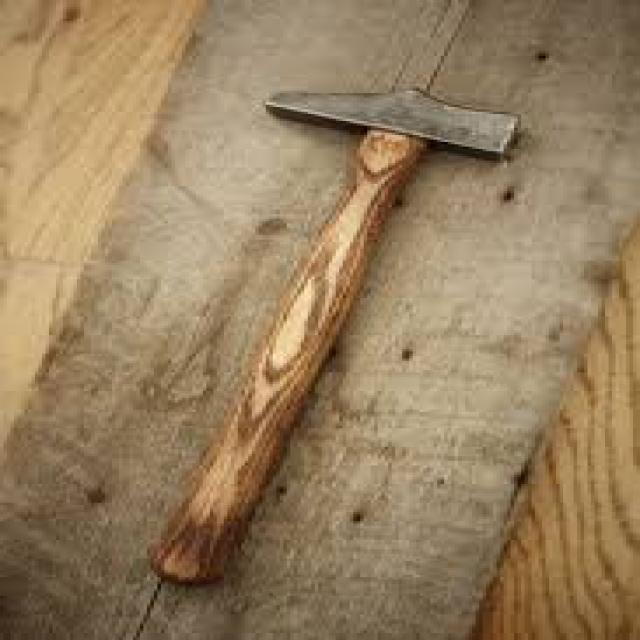hammer: (133, 73, 532, 597)
